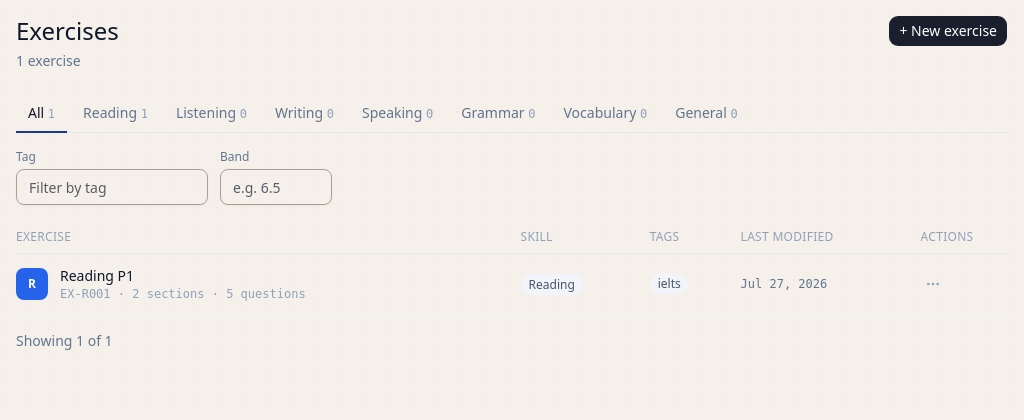
Scenario: ExerciseLibraryPage — two distinct empty states (AC9) › filtered-empty (has exercises, no match) shows quiet "no matches", NOT the hero
The width and height of the screenshot is (1024, 420).
Expected: the button "Reading P1" is shown, [60,266,134,286]
Type "nonexistent" into the field with test id "exercise-filter-tag". click: (112, 187)
box: [16,169,208,205]
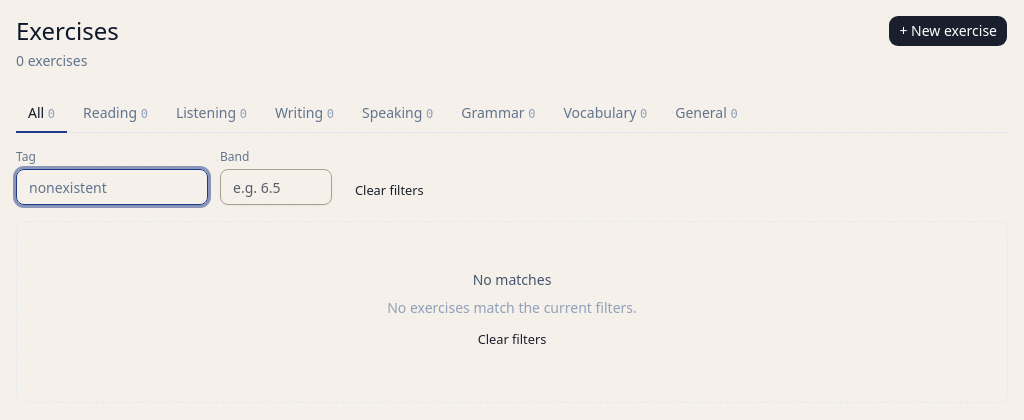
Result: the element with test id "exercises-empty-filtered" is shown at [16,221,1008,403]
